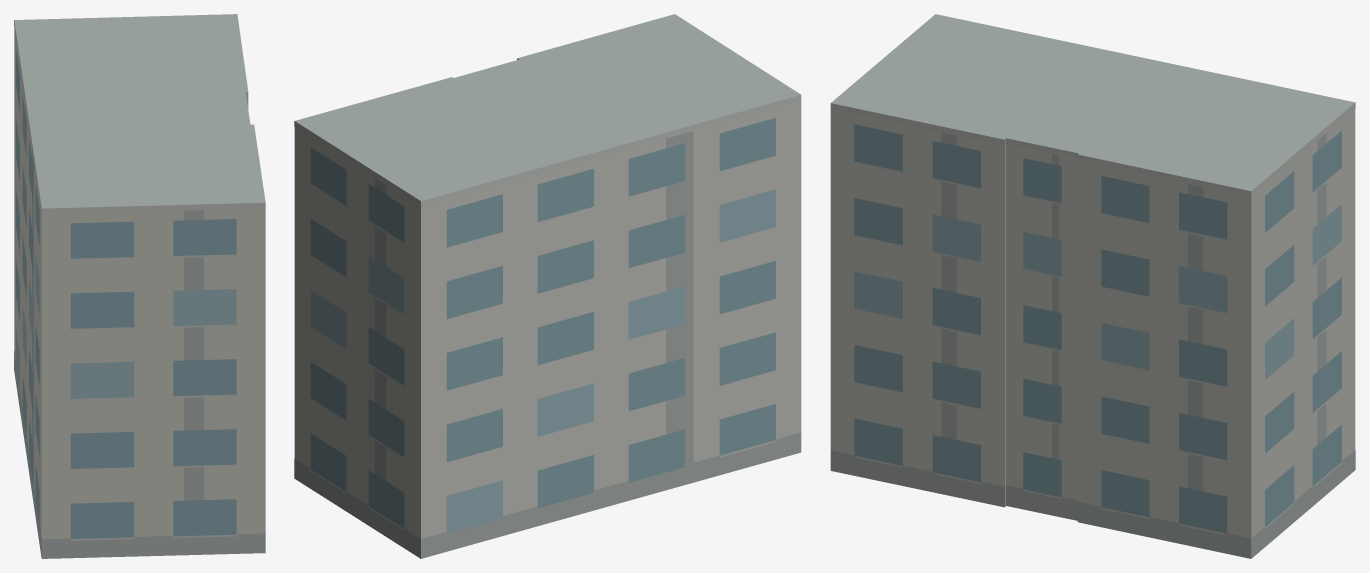
The model's file is survey-upis-32889604.glb.
The picture shows the model from 3 angles, left to right: view 1: azimuth 30°, elevation 25°; view 2: azimuth 150°, elevation 25°; view 3: azimuth 270°, elevation 25°; orthographic projection. The views are drawn at different scales.
Visible parts, largest first — view 1: survey-upis-32889604.tmp; view 2: survey-upis-32889604.tmp; view 3: survey-upis-32889604.tmp.
Part boxes in pixels (box(x1,y1,x2,y2)): survey-upis-32889604.tmp: box(14, 14, 265, 558); survey-upis-32889604.tmp: box(294, 14, 801, 558); survey-upis-32889604.tmp: box(830, 14, 1355, 558).
Bounding box in the file's own units: 14.69 × 14.2 × 18.38.
